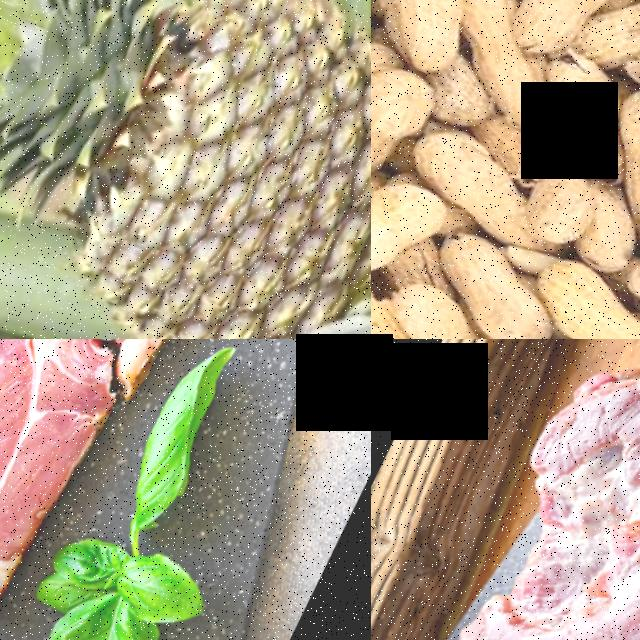peanuts: (403, 119, 542, 232), (513, 161, 614, 263), (371, 55, 449, 183), (371, 0, 488, 85), (507, 0, 635, 72), (466, 268, 576, 339), (585, 84, 640, 225), (381, 274, 488, 339), (371, 189, 419, 296), (548, 287, 640, 339)
pineapple: (0, 0, 371, 339)
pork belly: (0, 339, 282, 640), (371, 339, 640, 640)
